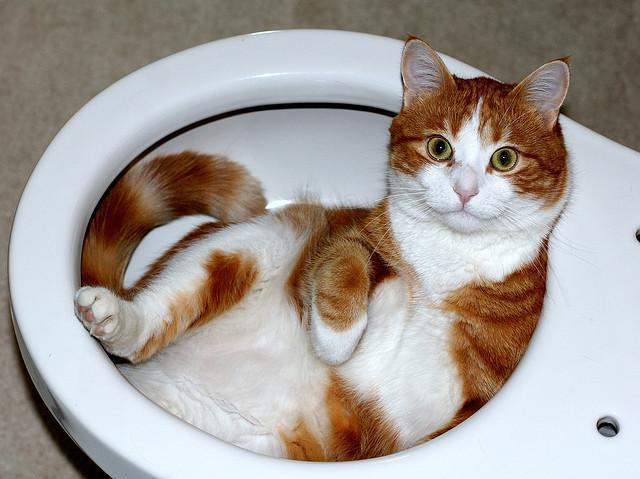Otro Obstaculo: (92, 31, 606, 478)
Sanitario: (5, 32, 639, 478)
